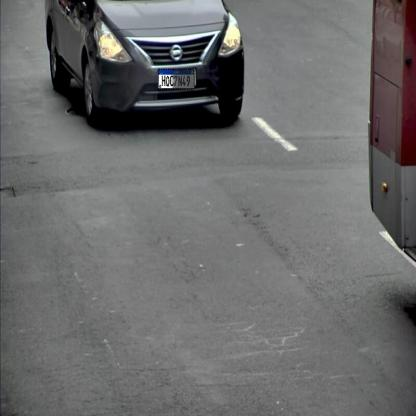PlacaM: (158, 68, 195, 90)
